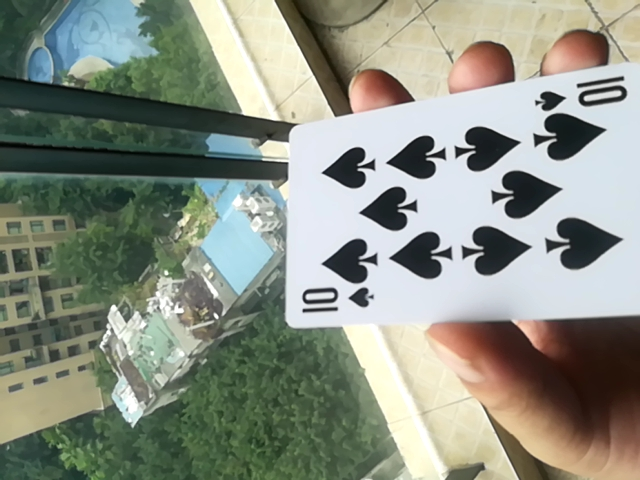ht 10: (275, 53, 640, 337)
